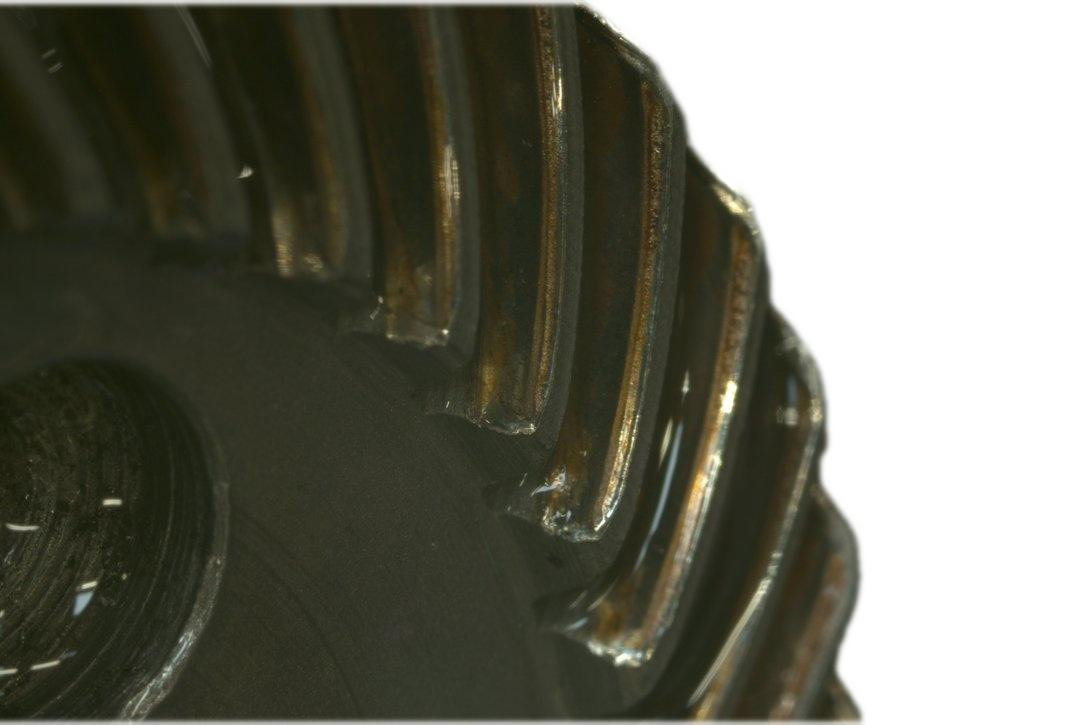defect: (584, 180, 768, 668), (537, 19, 674, 543), (675, 355, 828, 724), (466, 0, 574, 440), (351, 0, 465, 349), (88, 0, 221, 260), (246, 0, 340, 273), (756, 514, 862, 724), (824, 695, 858, 724)
